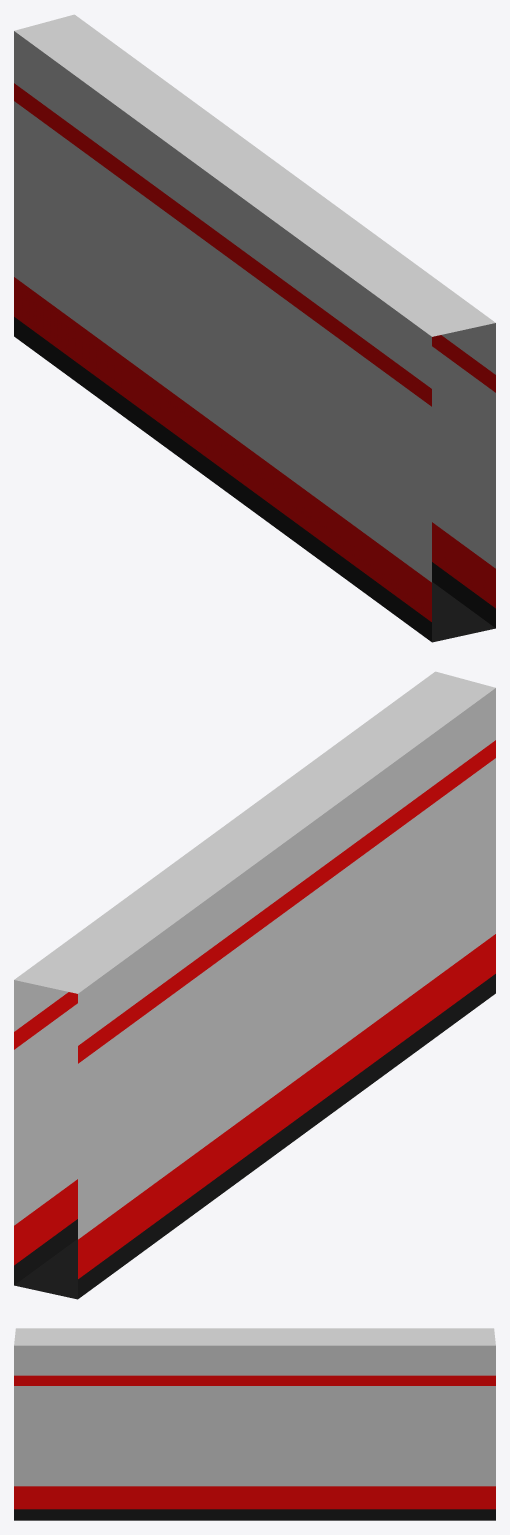
File: UL2_Sci-Fi_wall1.fbx
The picture shows the model from 3 angles, top to bottom: view 1: azimuth 30°, elevation 25°; view 2: azimuth 150°, elevation 25°; view 3: azimuth 270°, elevation 25°; orthographic projection. The views are drawn at different scales.
Visible parts, largest first — view 1: Object; view 2: Object; view 3: Object.
Boxes of the visible parts, <box> form: Object: <box>14,14,495,642</box>; Object: <box>14,671,495,1299</box>; Object: <box>14,1328,495,1520</box>.
Size of the model in its own units: 0.7992 by 9.37 by 3.75.
